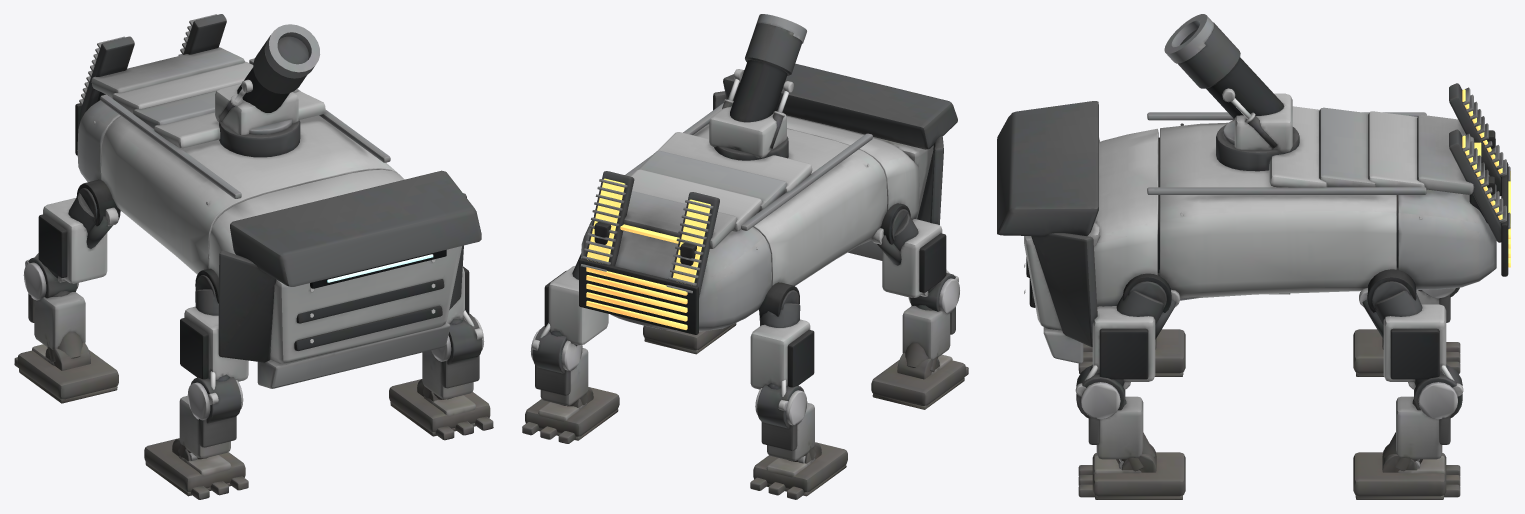
Rendered from bulwark.glb.
3 views of the same model, side by side, from view 1: azimuth 30°, elevation 25°; view 2: azimuth 150°, elevation 25°; view 3: azimuth 270°, elevation 25° (orthographic). The views are drawn at different scales.
Parts seen in each view (by area): view 1: body, gun, thigh_rr, thigh_fr, shin_rr, foot_fl, foot_fr, foot_rr, shin_fr, thigh_fl, shin_fl, vent_0 (+2 smaller); view 2: body, gun, thigh_rr, thigh_fr, thigh_rl, shin_fr, foot_rl, foot_rr, foot_fr, vent_0, vent_1, shin_rr (+4 smaller); view 3: body, gun, thigh_rl, thigh_fl, foot_rl, foot_fl, shin_fl, shin_rl, vent_1, vent_0, foot_rr, foot_fr (+2 smaller).
Part boxes in pixels (x1=…): body: x1=75, y1=47, x2=481, y2=388; gun: x1=215, y1=24, x2=320, y2=157; thigh_rr: x1=23, y1=193, x2=118, y2=300; thigh_fr: x1=180, y1=289, x2=248, y2=423; shin_rr: x1=28, y1=291, x2=90, y2=370; foot_fl: x1=389, y1=379, x2=493, y2=440; foot_fr: x1=144, y1=438, x2=248, y2=499; foot_rr: x1=14, y1=344, x2=118, y2=403; shin_fr: x1=172, y1=396, x2=236, y2=461; thigh_fl: x1=431, y1=266, x2=484, y2=364; shin_fl: x1=417, y1=350, x2=479, y2=401; vent_0: x1=79, y1=36, x2=134, y2=120; body: x1=579, y1=63, x2=957, y2=334; gun: x1=709, y1=14, x2=806, y2=160; thigh_rr: x1=750, y1=303, x2=814, y2=428; thigh_fr: x1=872, y1=213, x2=959, y2=313; thigh_rl: x1=530, y1=253, x2=608, y2=373; shin_fr: x1=897, y1=305, x2=955, y2=379; foot_rl: x1=522, y1=387, x2=619, y2=443; foot_rr: x1=750, y1=442, x2=847, y2=499; foot_fr: x1=871, y1=354, x2=968, y2=409; vent_0: x1=666, y1=192, x2=719, y2=297; vent_1: x1=581, y1=171, x2=634, y2=271; shin_rr: x1=761, y1=402, x2=821, y2=463; body: x1=997, y1=101, x2=1510, y2=363; gun: x1=1164, y1=14, x2=1299, y2=171; thigh_rl: x1=1359, y1=288, x2=1463, y2=419; thigh_fl: x1=1075, y1=289, x2=1180, y2=419; foot_rl: x1=1353, y1=452, x2=1460, y2=499; foot_fl: x1=1078, y1=452, x2=1185, y2=499; shin_fl: x1=1088, y1=396, x2=1156, y2=472; shin_rl: x1=1382, y1=396, x2=1450, y2=472; vent_1: x1=1449, y1=129, x2=1510, y2=242; vent_0: x1=1449, y1=83, x2=1510, y2=196; foot_rr: x1=1353, y1=329, x2=1460, y2=376; foot_fr: x1=1078, y1=329, x2=1185, y2=376.
Size of what is drawn, in the model's own units: 3.12 by 3.86 by 4.41.
Materials: 3 (1 with a texture image).
